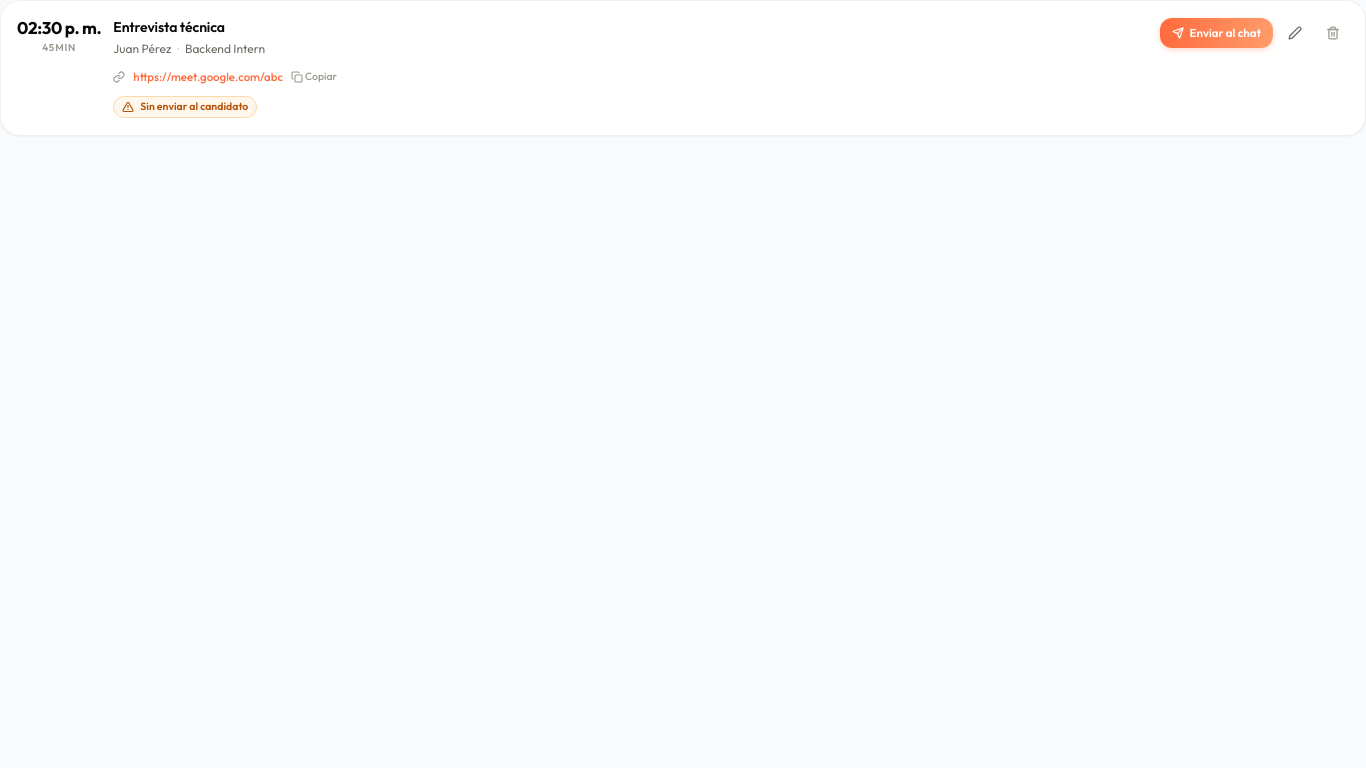
Test: InterviewListItem › modal de eliminación › click en X (Cerrar) cierra el modal
The width and height of the screenshot is (1366, 768).
Click the button titled "Eliminar".
click(1333, 33)  # box 1317,17 -> 1349,49
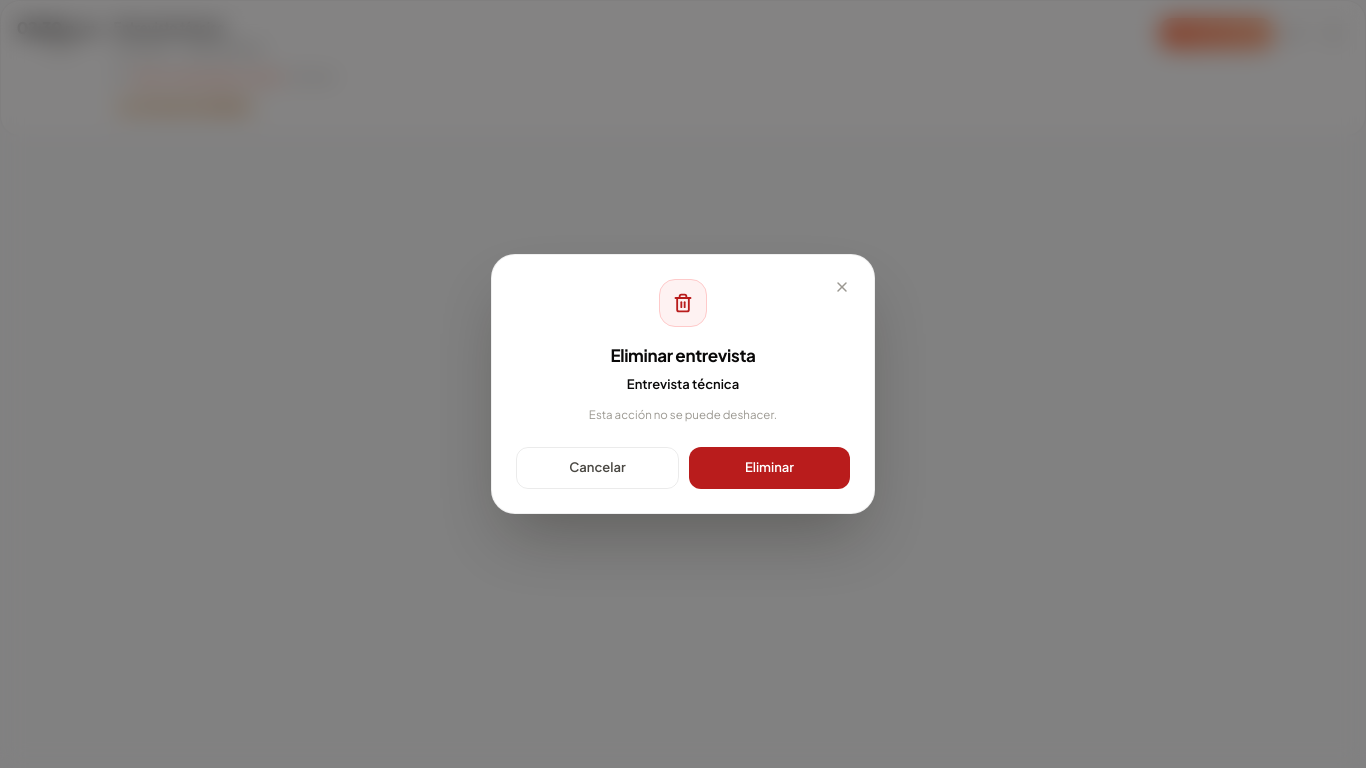
Click the button named "Cerrar".
click(842, 287)  # box 826,271 -> 858,303
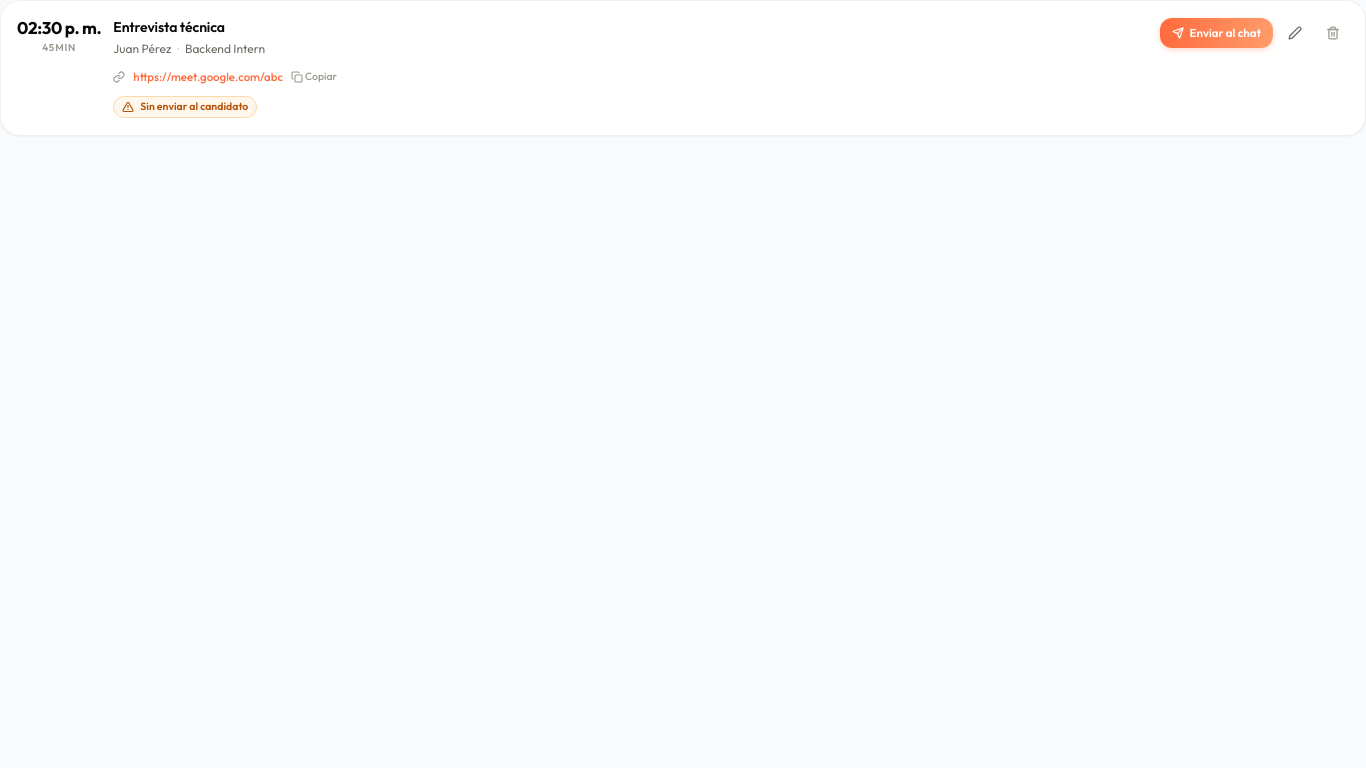
Expected: the heading "Eliminar entrevista" is gone
